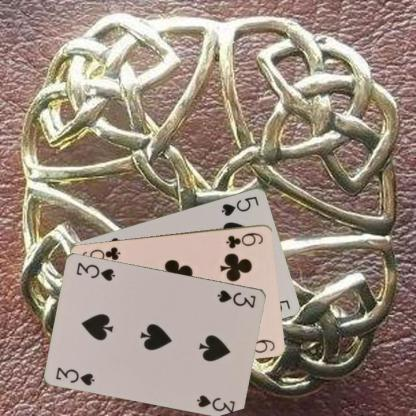3s: (53, 364, 97, 387), (215, 287, 257, 309)
5s: (218, 193, 260, 217)
6c: (224, 230, 264, 250)
